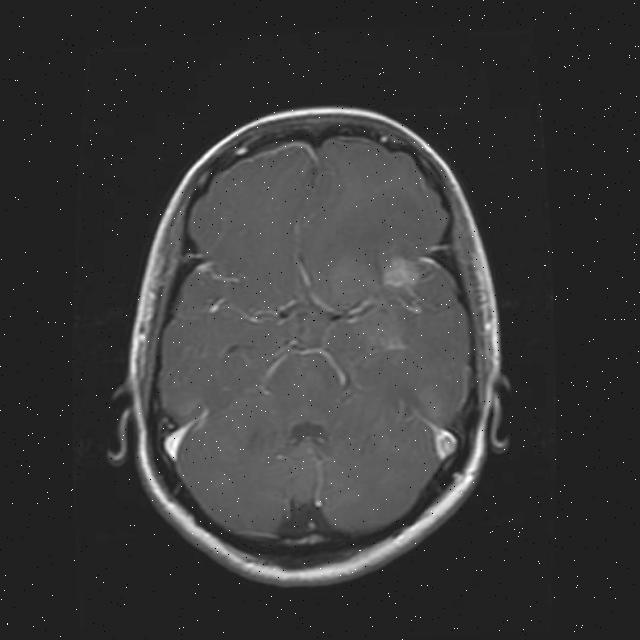Glioma: (378, 253, 423, 289)
